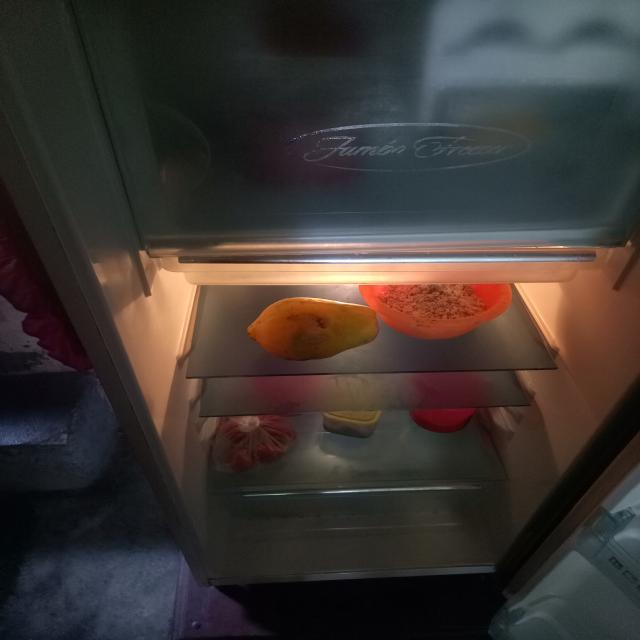Pepaya rippen: (233, 292, 384, 359)
